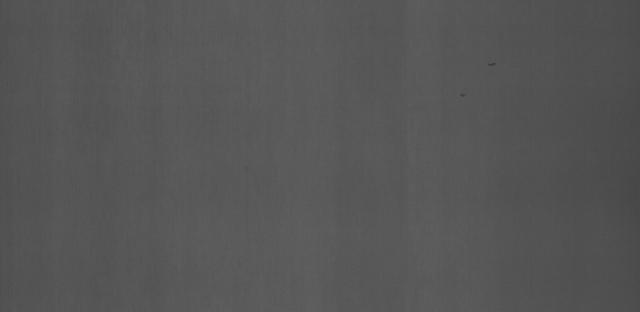inclusion: (454, 77, 474, 101), (481, 53, 503, 71)
